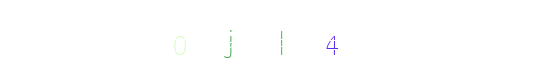0: (188, 0, 268, 80)
4: (292, 0, 372, 80)
J: (212, 0, 292, 80)
L: (235, 0, 315, 80)
